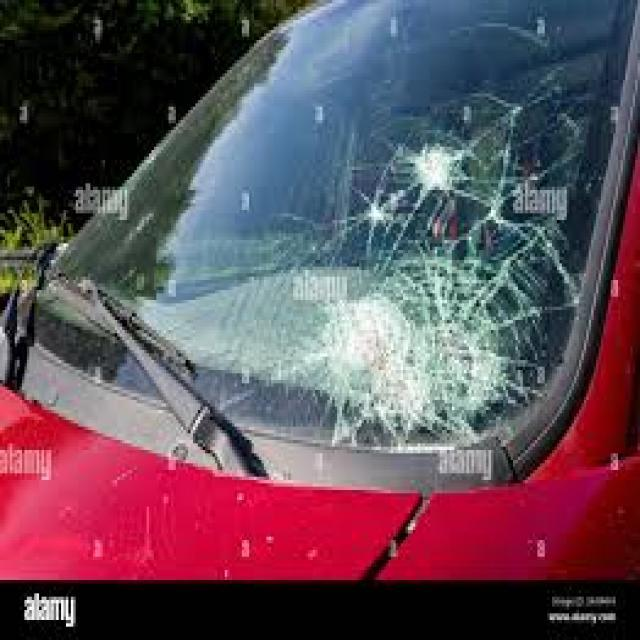damaged-windscreen: (16, 0, 630, 473)
